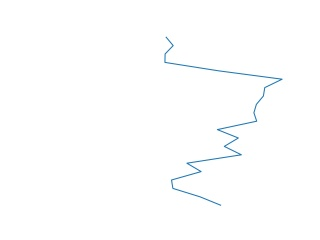floodPlain: (162, 36, 285, 209)
